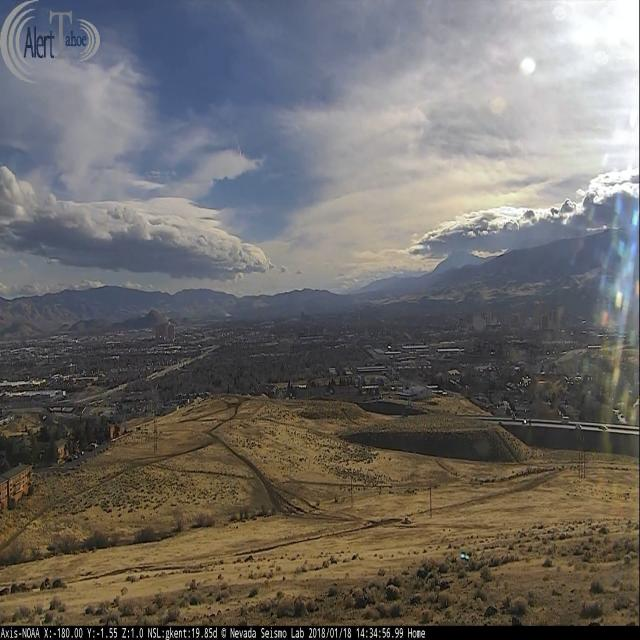smoke: (224, 312, 230, 316)
